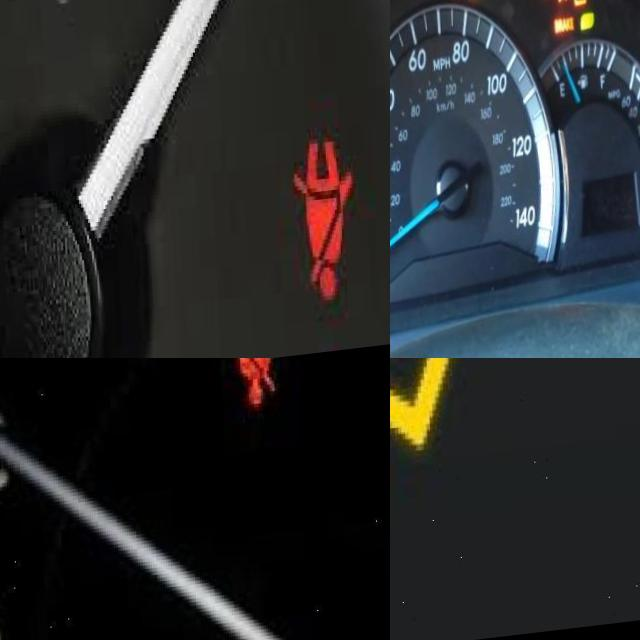Seat Belt: (288, 150, 347, 314), (214, 358, 282, 425)
Washer Fluid: (390, 358, 506, 499)
